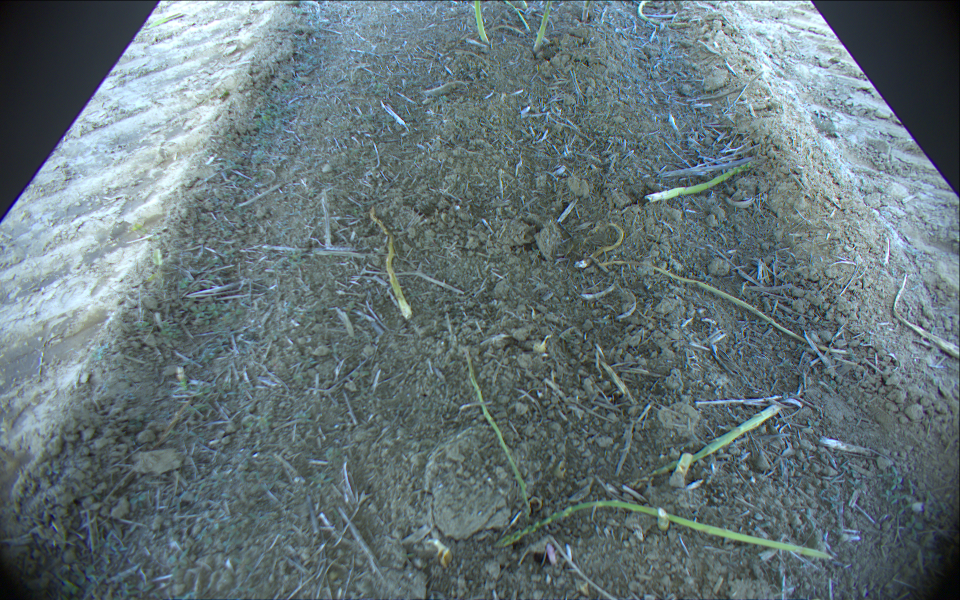aspa: (589, 223, 848, 353), (494, 499, 833, 564), (613, 403, 781, 494), (464, 348, 533, 517), (645, 161, 759, 205), (368, 206, 412, 318), (636, 1, 691, 29), (532, 1, 552, 52), (500, 1, 531, 30), (475, 1, 489, 43), (579, 1, 592, 22)
